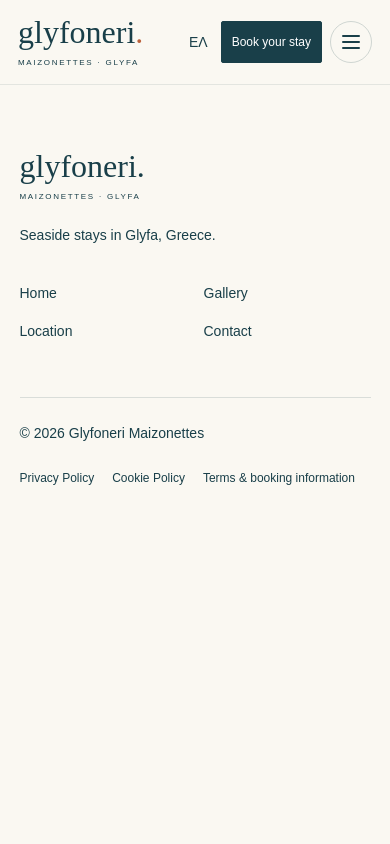
Scenario: navigation and booking › opens and closes mobile menu
Click the button named "Open menu" at (351, 42), box [330,21,372,63]
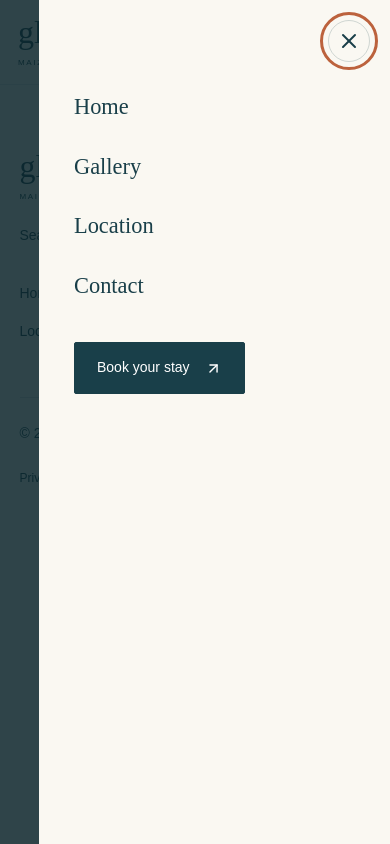
Click the button named "Close" at (349, 41), box [328,20,370,62]
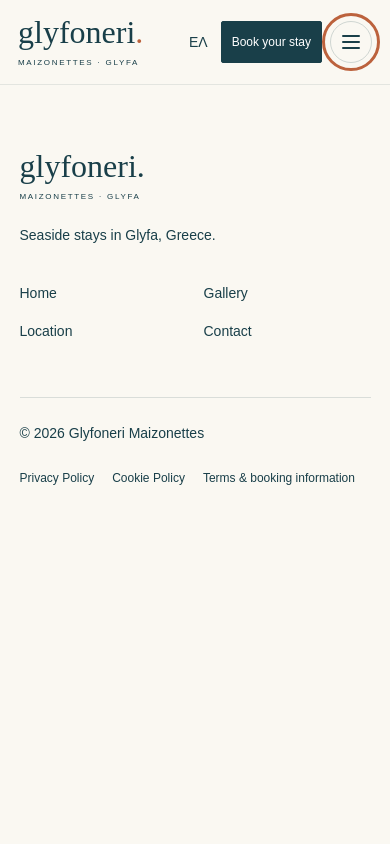
Expected: the button named "Open menu" is collapsed, [330,21,372,63]
